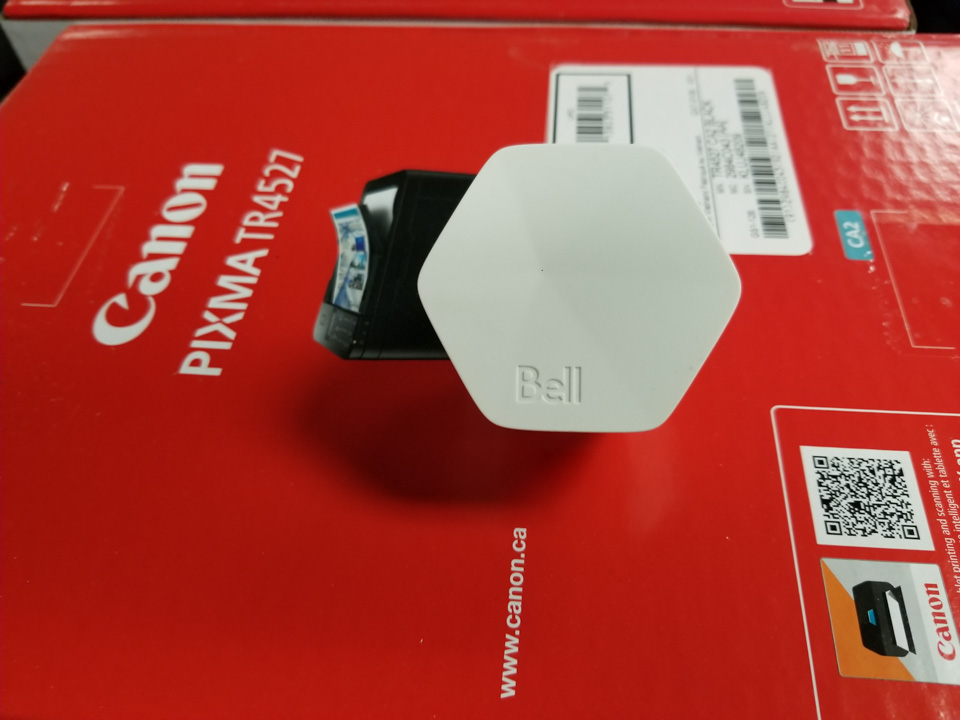pod: (409, 135, 750, 443)
